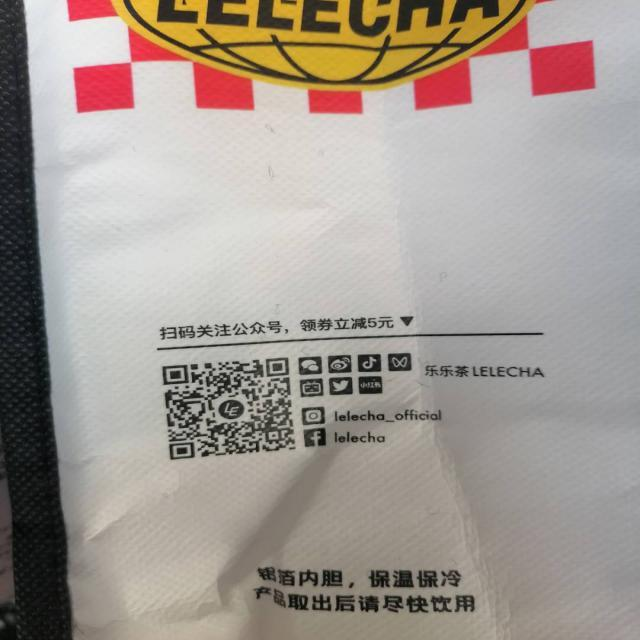qr_code: (162, 356, 297, 461)
